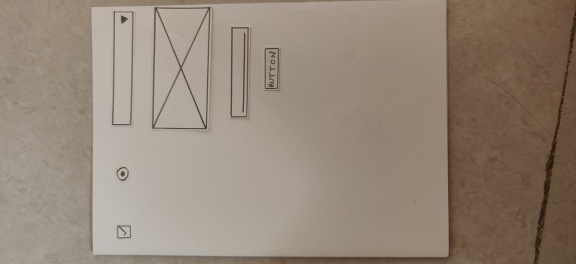button: (264, 48, 282, 94)
checkbox: (114, 223, 133, 238)
dropdown: (109, 10, 134, 128)
img: (151, 7, 210, 132)
radio: (114, 164, 129, 183)
text: (228, 26, 247, 118)
